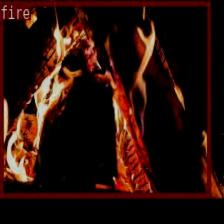fire: (0, 0, 210, 196)
